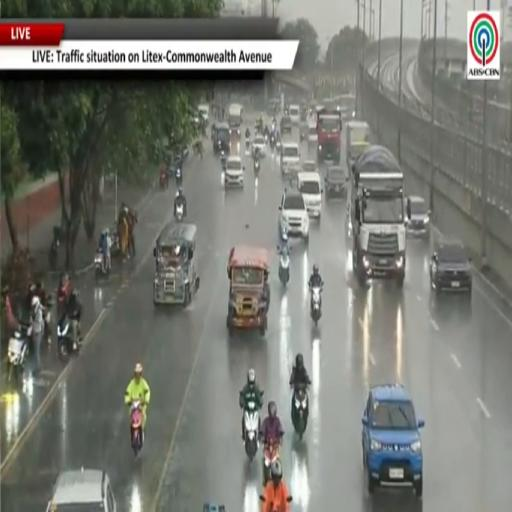car: (362, 384, 424, 498), (47, 469, 116, 511), (430, 240, 472, 293), (278, 190, 309, 243), (298, 172, 322, 221), (406, 196, 430, 237), (324, 166, 348, 199), (225, 155, 245, 188), (280, 142, 300, 174), (252, 134, 267, 157), (308, 123, 318, 148), (289, 104, 300, 125), (280, 116, 292, 135), (198, 104, 209, 124), (303, 160, 318, 171), (300, 122, 308, 141)
jeepney: (154, 221, 199, 306), (227, 246, 269, 335)
motorcycle: (7, 324, 31, 382), (57, 314, 79, 360), (244, 402, 260, 460), (291, 386, 308, 439), (263, 440, 279, 487), (131, 400, 143, 456), (49, 227, 61, 270), (310, 286, 321, 326), (95, 251, 110, 279), (259, 495, 285, 511), (278, 248, 289, 285), (159, 170, 168, 189), (175, 203, 184, 222), (269, 132, 276, 150), (176, 167, 182, 186), (254, 158, 260, 175), (221, 151, 226, 171), (275, 139, 281, 150), (246, 138, 250, 153), (264, 132, 269, 143)
truck: (349, 146, 410, 286), (316, 108, 341, 164), (345, 121, 370, 169)
